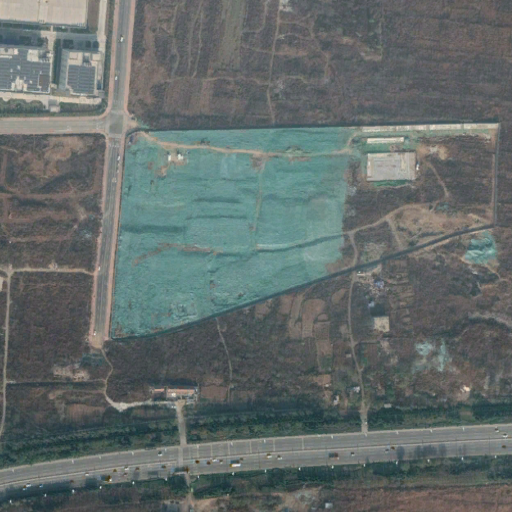cw: (106, 125, 354, 343)
